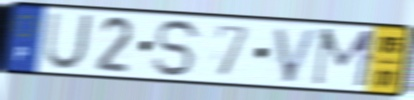2: (94, 15, 136, 76)
7: (212, 23, 252, 80)
M: (308, 26, 380, 90)
S: (151, 17, 205, 79)
U: (41, 11, 96, 72)
V: (271, 25, 323, 85)
